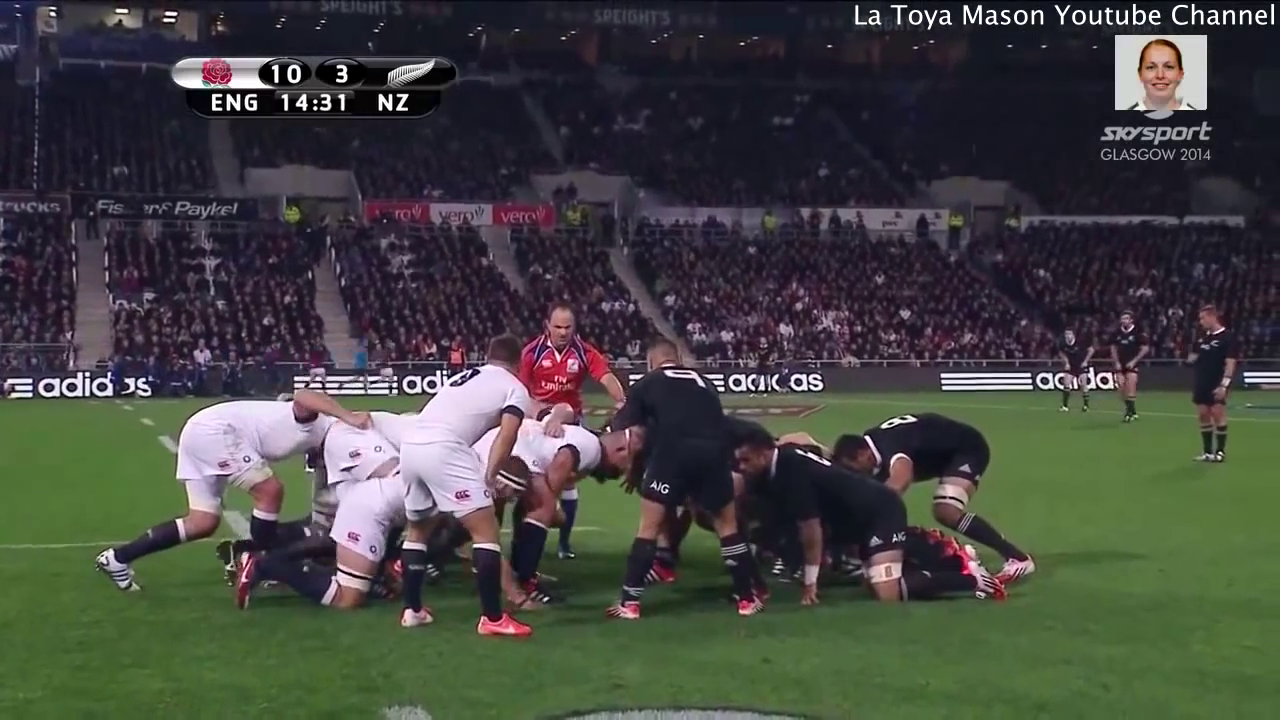player: (101, 386, 329, 592), (738, 425, 996, 596), (613, 340, 764, 622), (398, 331, 530, 644), (833, 408, 1041, 582), (238, 483, 401, 608), (521, 305, 626, 408), (493, 428, 620, 496), (1183, 300, 1233, 468), (1104, 305, 1149, 435), (322, 406, 398, 481), (1050, 319, 1096, 419)
scrum: (82, 345, 1041, 624)
